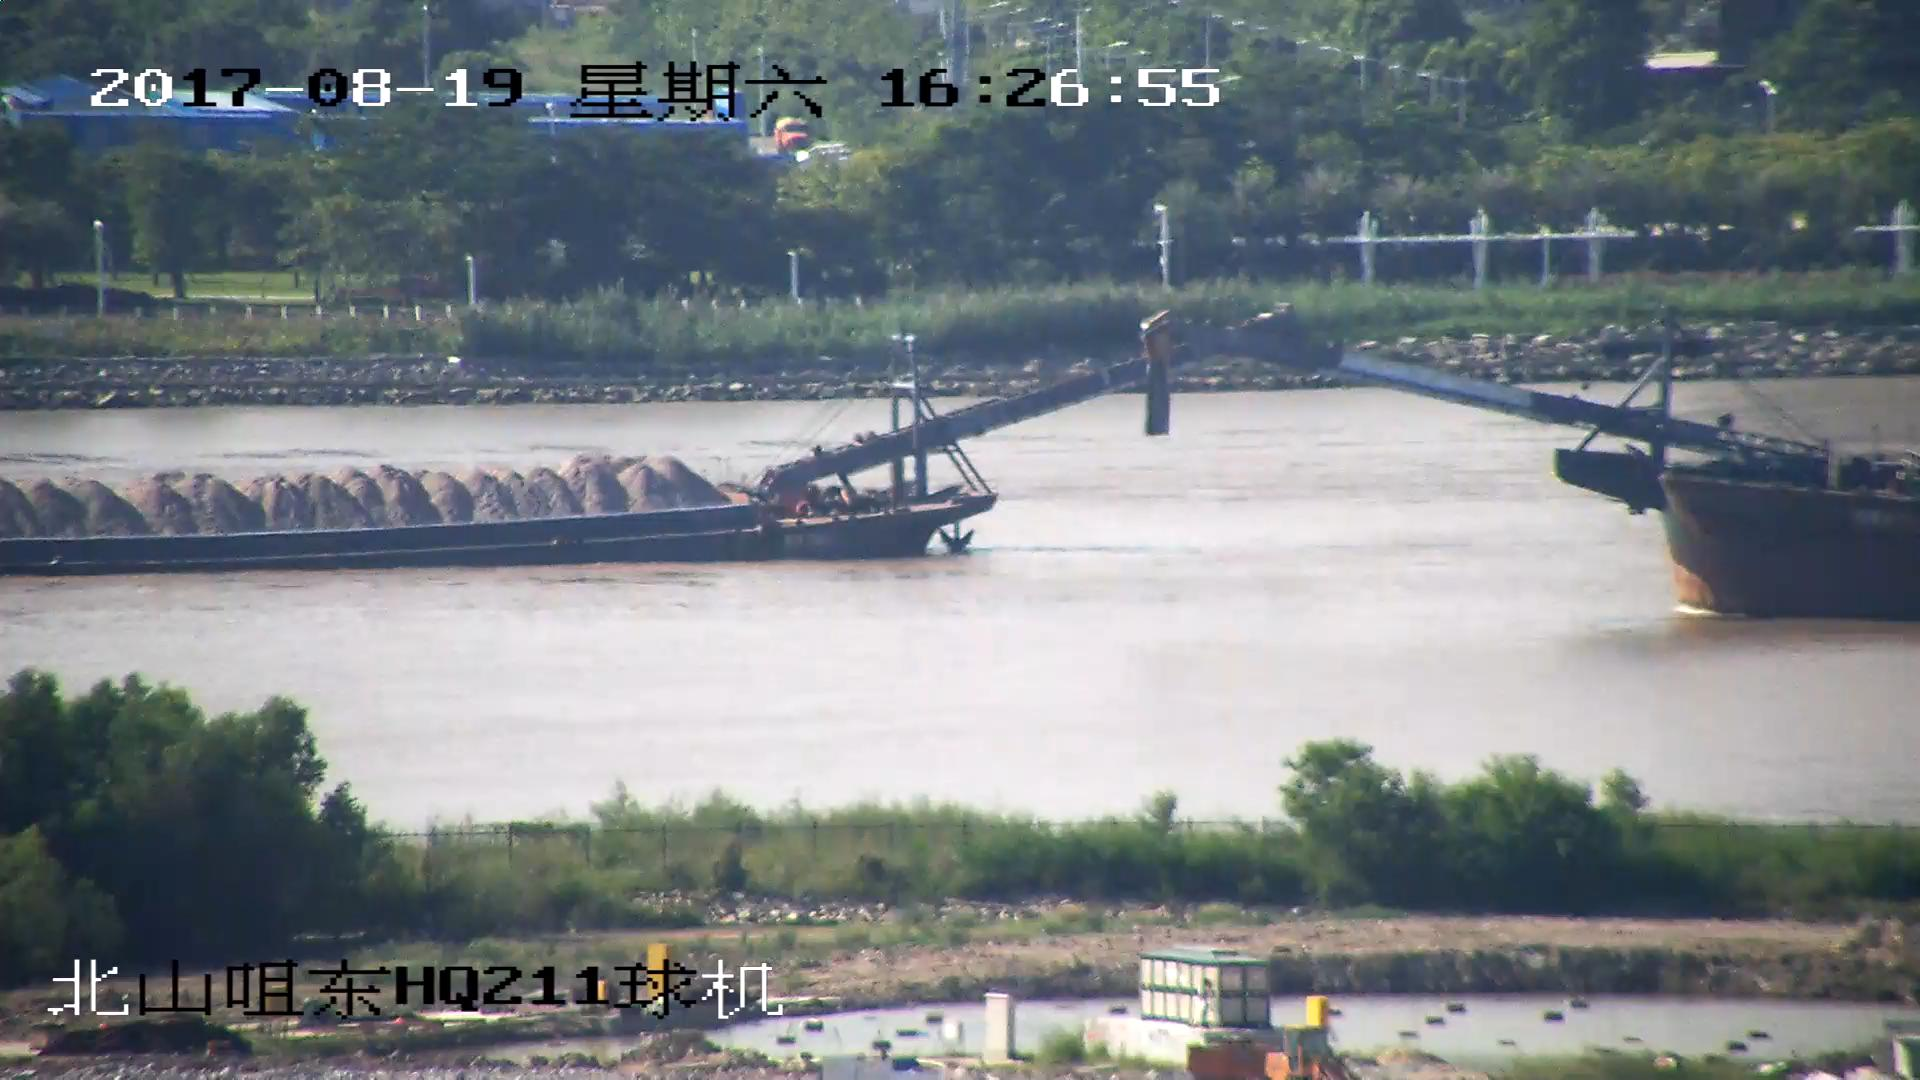bulk cargo carrier: (1139, 318, 1920, 618)
ore carrier: (1, 299, 1285, 577)
